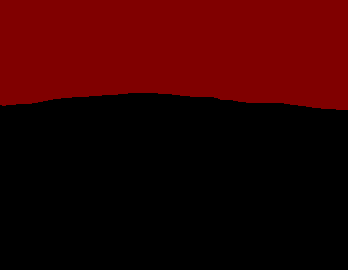Sky: (1, 1, 347, 110)
